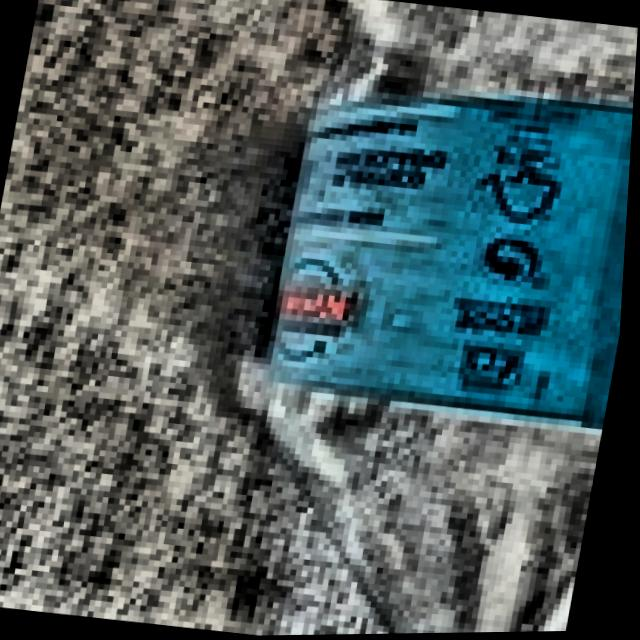plastic: (183, 0, 640, 638)
